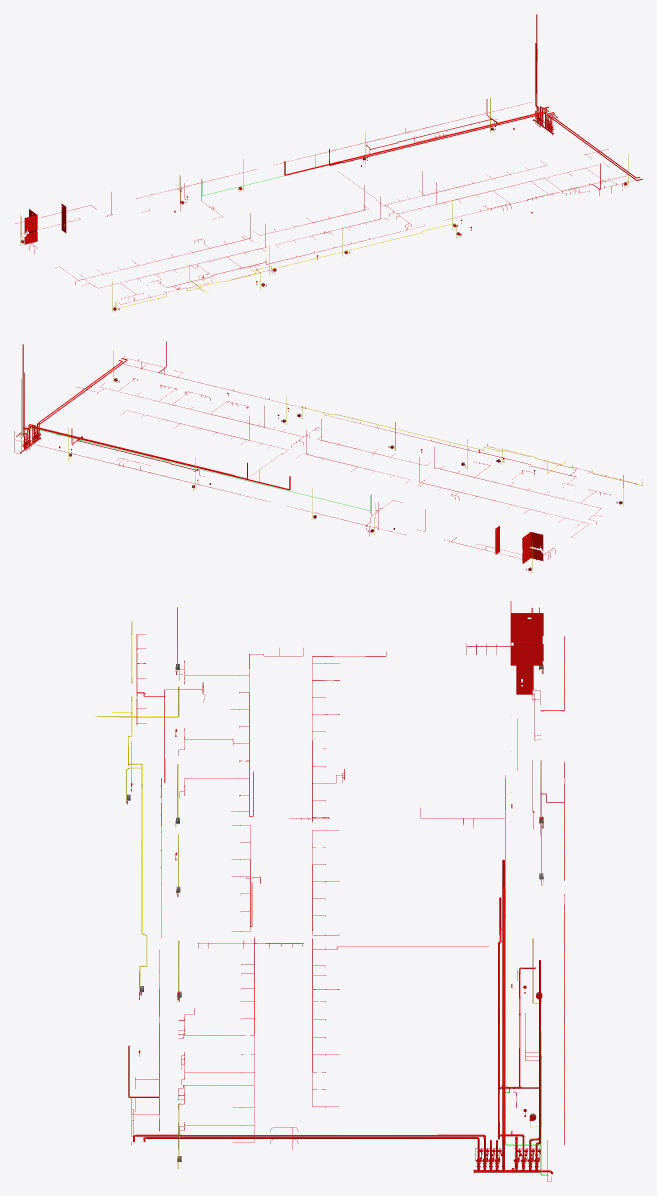
File: detail-sprinklers-lite-1-gf.glb
The picture shows the model from 3 angles, top to bottom: view 1: azimuth 30°, elevation 25°; view 2: azimuth 150°, elevation 25°; view 3: azimuth 270°, elevation 25°; orthographic projection. The views are drawn at different scales.
Bounding box in the file's own units: 105 × 20.51 × 40.74.
